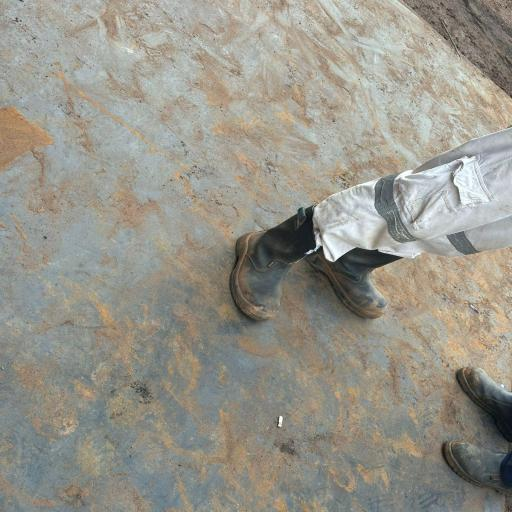safety_shoe: (227, 202, 321, 326), (314, 233, 392, 321), (442, 364, 512, 430), (441, 436, 512, 494)
